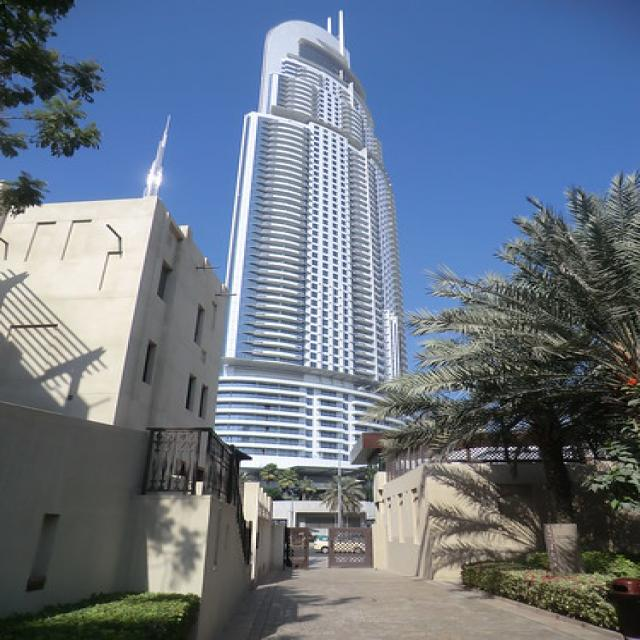Normal_building: (208, 8, 420, 476)
